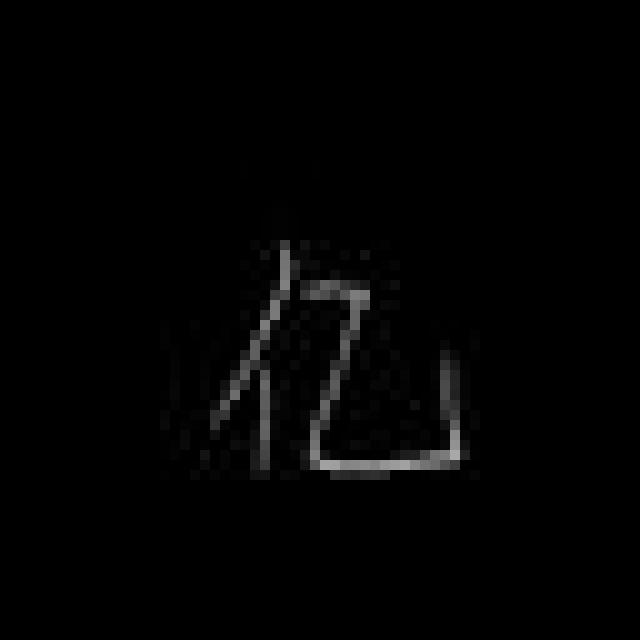100000 -a hundred thousand-: (192, 234, 470, 484)
